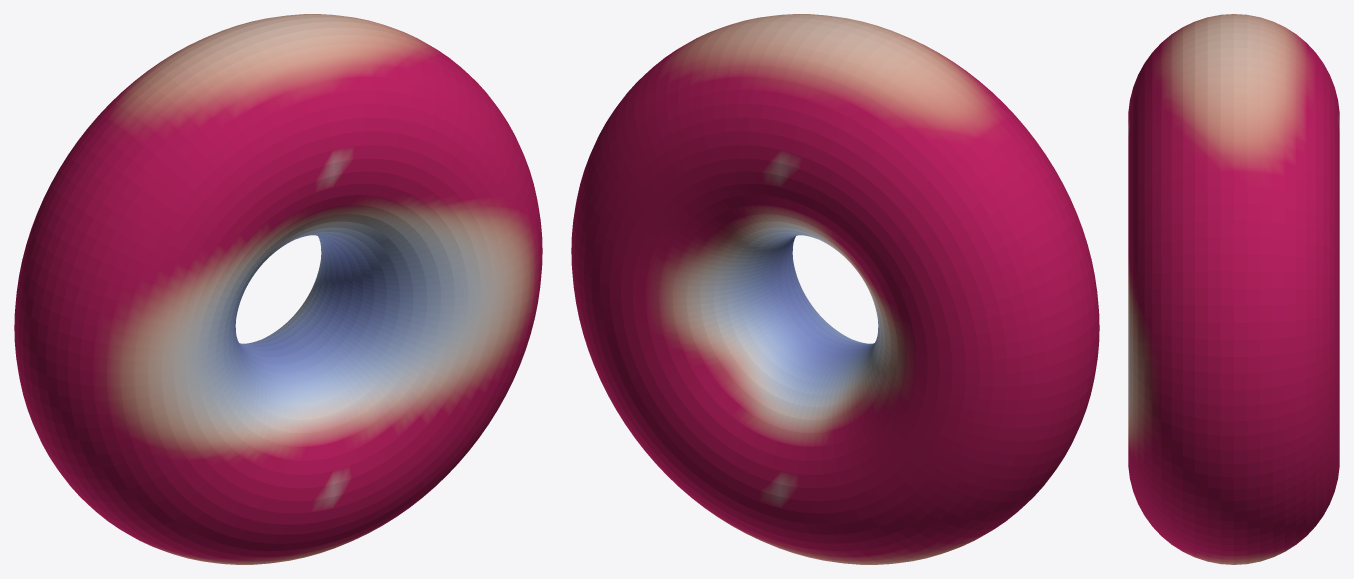
The picture shows the model from 3 angles, left to right: view 1: azimuth 30°, elevation 25°; view 2: azimuth 150°, elevation 25°; view 3: azimuth 270°, elevation 25°; orthographic projection. The views are drawn at different scales.
Visible parts, largest first — view 1: world; view 2: world; view 3: world.
Part boxes in pixels (x1=…): world: x1=14, y1=14, x2=542, y2=564; world: x1=571, y1=14, x2=1099, y2=564; world: x1=1128, y1=14, x2=1339, y2=564.
Size of the model in its own units: 26 by 26 by 9.98.
